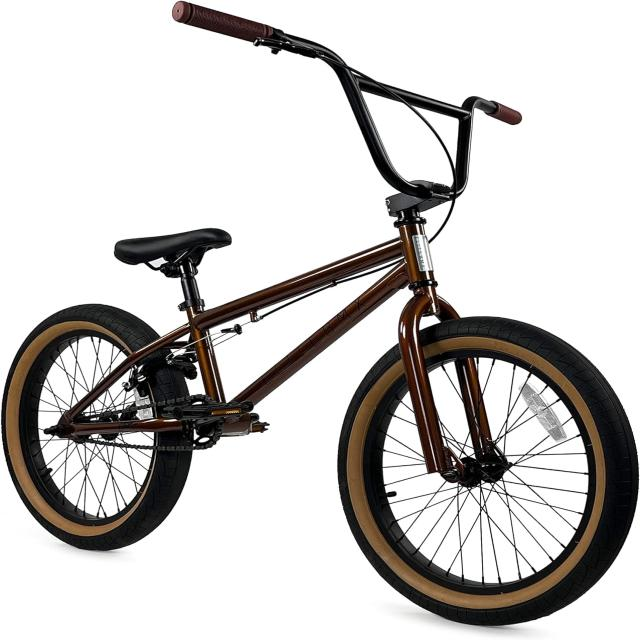bmx-bike: (4, 1, 638, 625)
